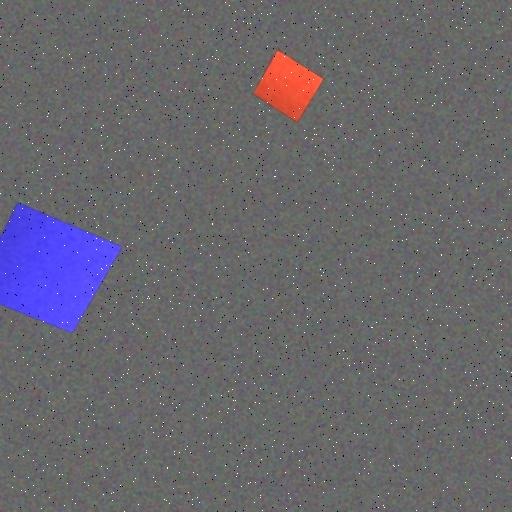BLUE_SQUARE: (0, 202, 123, 334)
RED_SQUARE: (253, 50, 325, 123)
